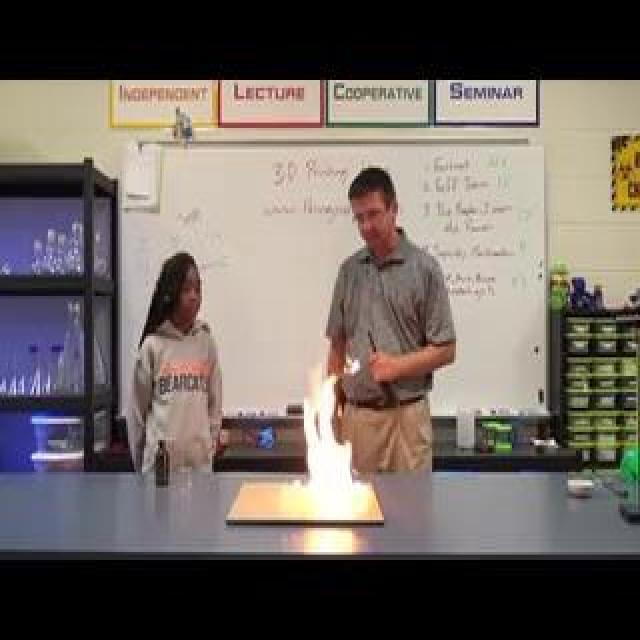Fire: (98, 216, 326, 406)
